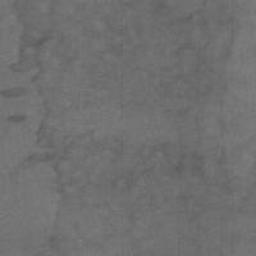Water spot: (9, 0, 256, 256), (0, 86, 28, 100), (6, 113, 27, 123)
